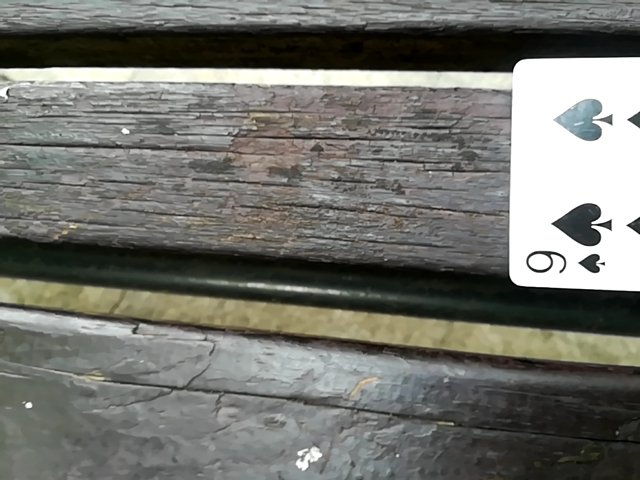ht 9: (501, 33, 638, 306)
